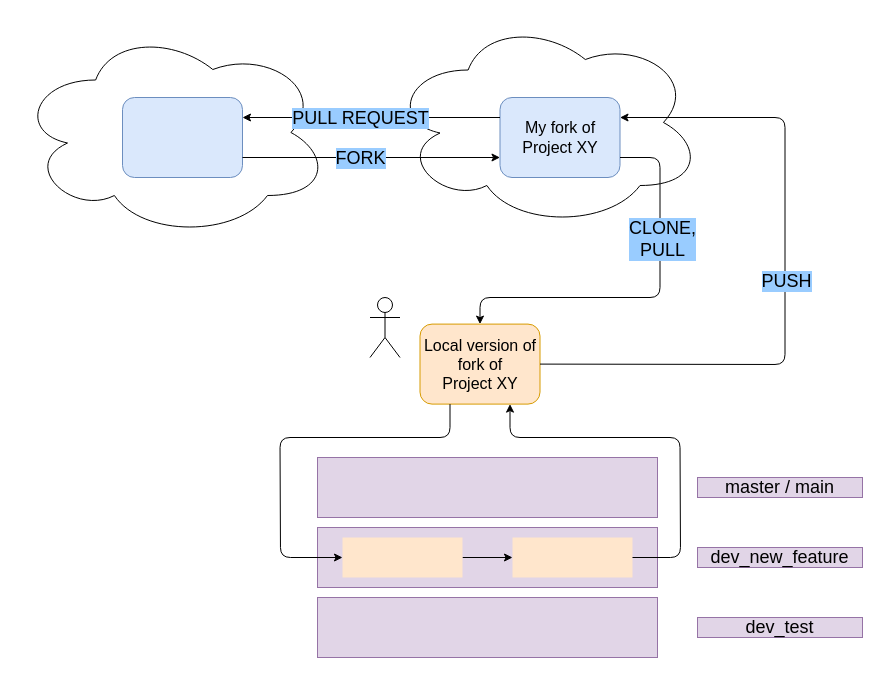
The diagram is 880 pixels wide and 675 high, and some of its shapes have lost their labels. Here are the shapes that lost their labels. From the top down, the centre of each, then its label:
At [182,137]: "Project XY".
At [402,557]: "STAGE".
At [572,557]: "COMMIT".
